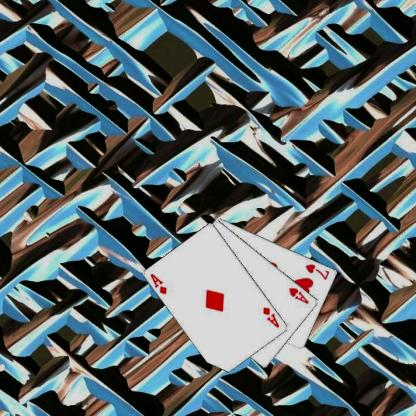7H: (302, 261, 330, 281)
AD: (260, 304, 280, 329), (148, 271, 168, 295)
AH: (286, 285, 310, 305)
